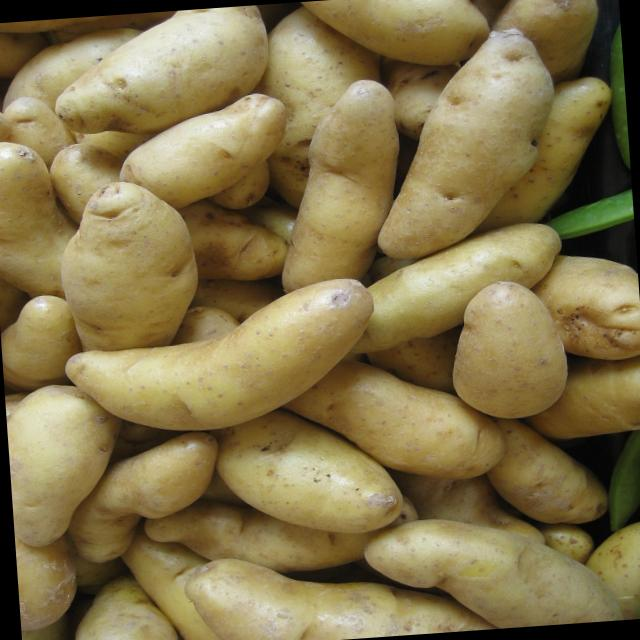strawberry: (365, 24, 566, 253), (52, 3, 276, 138), (214, 401, 404, 539), (444, 272, 570, 424), (232, 407, 232, 409)
